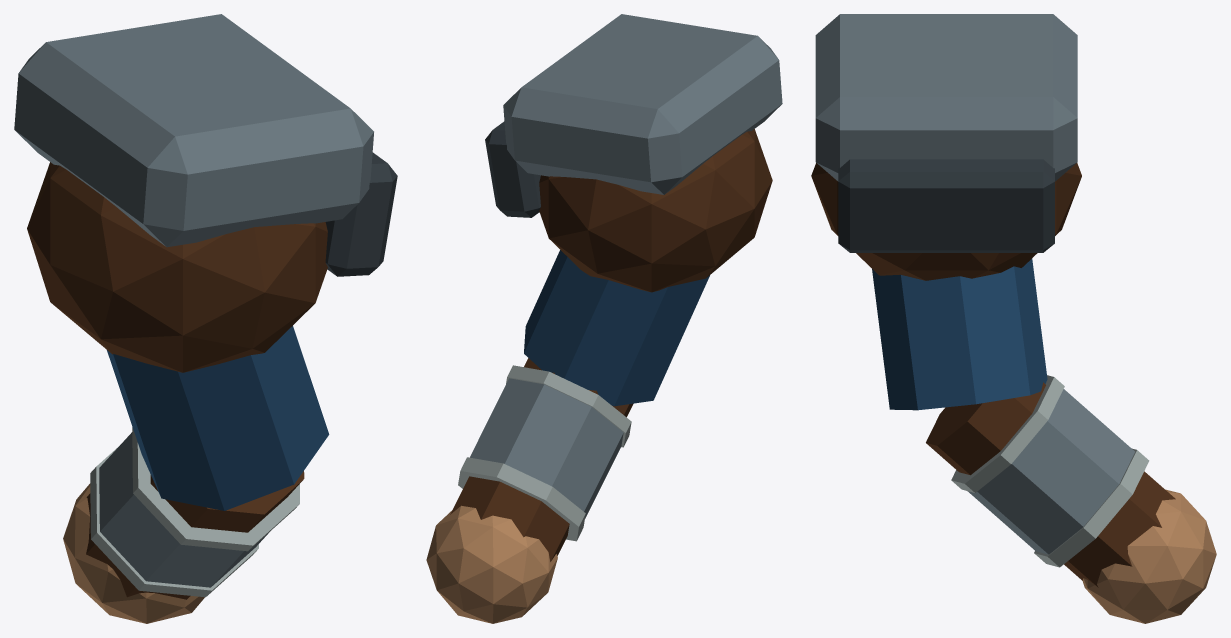
Rendered from ArmRight.glb.
3 views of the same model, side by side, from view 1: azimuth 30°, elevation 25°; view 2: azimuth 150°, elevation 25°; view 3: azimuth 270°, elevation 25° (orthographic). The views are drawn at different scales.
Parts seen in each view (by area): view 1: Sculpture; view 2: Sculpture; view 3: Sculpture.
Boxes of the visible parts, <box> form: Sculpture: <box>14,14,397,623</box>; Sculpture: <box>426,14,782,623</box>; Sculpture: <box>811,14,1216,623</box>.
Bounding box in the file's own units: 0.3083 × 0.6603 × 0.449.
